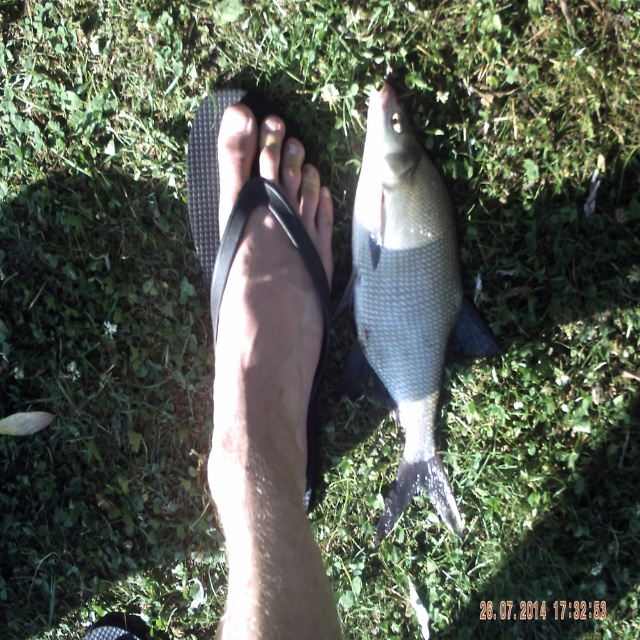Fish: (334, 82, 496, 534)
